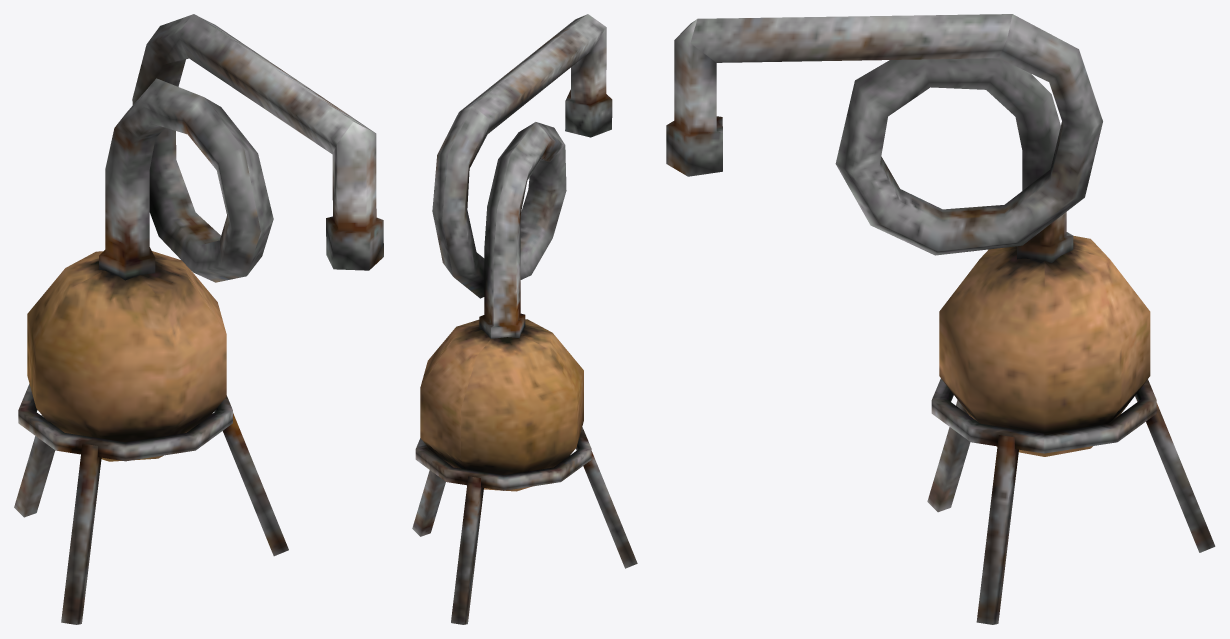
File: chem_vial03.dae
The picture shows the model from 3 angles, left to right: view 1: azimuth 30°, elevation 25°; view 2: azimuth 150°, elevation 25°; view 3: azimuth 270°, elevation 25°; orthographic projection. The views are drawn at different scales.
Visible parts, largest first — view 1: chem_vial03; view 2: chem_vial03; view 3: chem_vial03.
Part boxes in pixels (<box>): chem_vial03: <box>14,14,383,624</box>; chem_vial03: <box>412,14,637,624</box>; chem_vial03: <box>666,14,1215,624</box>.
Bounding box in the file's own units: 0.2541 × 0.5318 × 0.4611.
